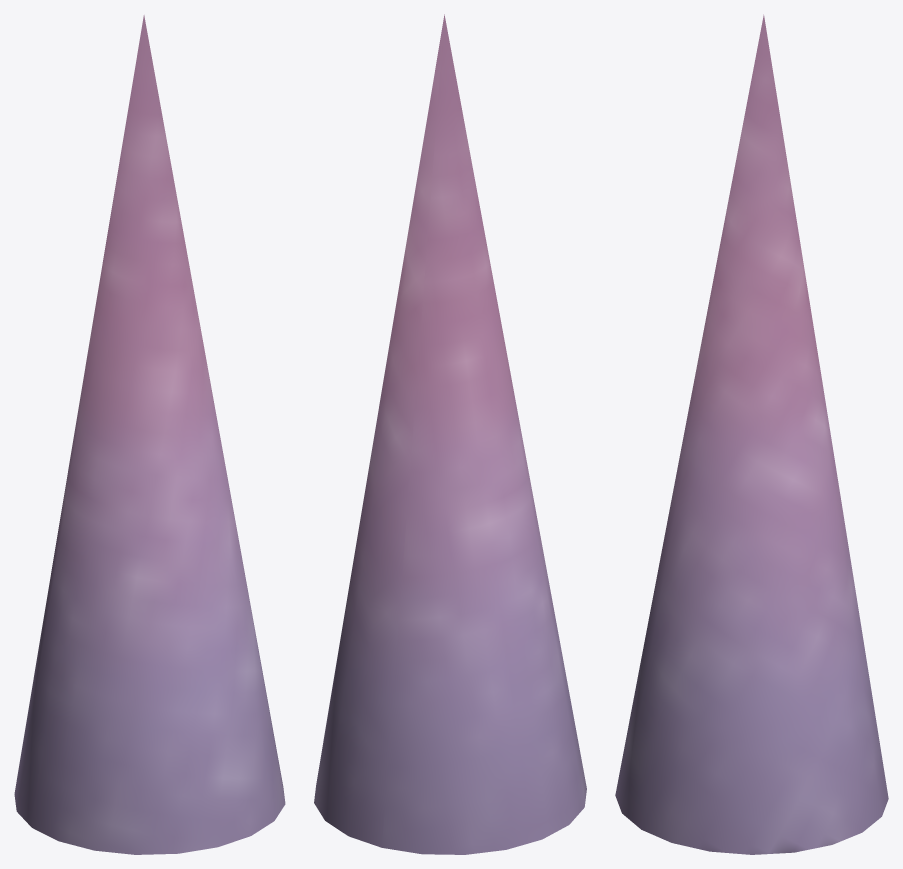
The model's file is horn.fbx.
The picture shows the model from 3 angles, left to right: view 1: azimuth 30°, elevation 25°; view 2: azimuth 150°, elevation 25°; view 3: azimuth 270°, elevation 25°; orthographic projection.
Parts seen in each view (by area): view 1: horn; view 2: horn; view 3: horn.
Boxes of the visible parts, left/top/right/bottom form: horn: left=14, top=15, right=285, bottom=854; horn: left=314, top=14, right=586, bottom=854; horn: left=615, top=14, right=888, bottom=854.
Bounding box in the file's own units: 0.3819 × 1.21 × 0.3819.
